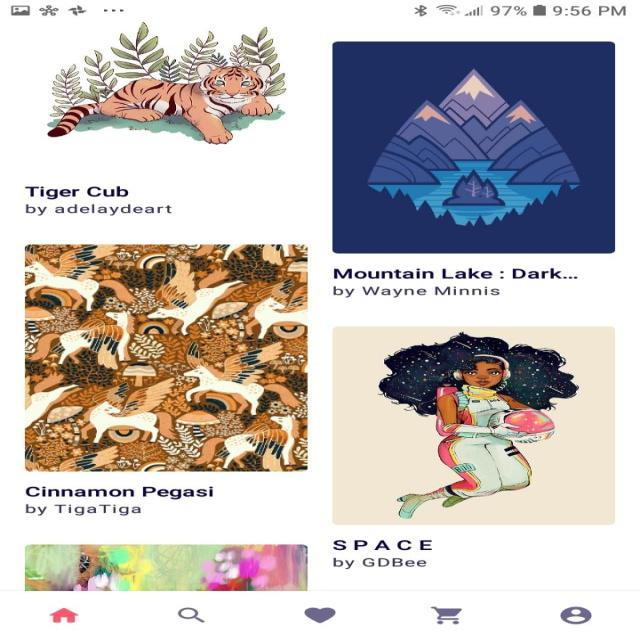Icon: (429, 605, 462, 624), (559, 606, 591, 624), (304, 606, 336, 623), (48, 608, 78, 622), (178, 607, 204, 622)
Image: (25, 244, 308, 472), (332, 41, 616, 254), (332, 326, 614, 525), (47, 22, 286, 144), (25, 544, 308, 590)
Text: (331, 267, 577, 298), (25, 485, 214, 516), (24, 186, 172, 216), (332, 539, 432, 569)
